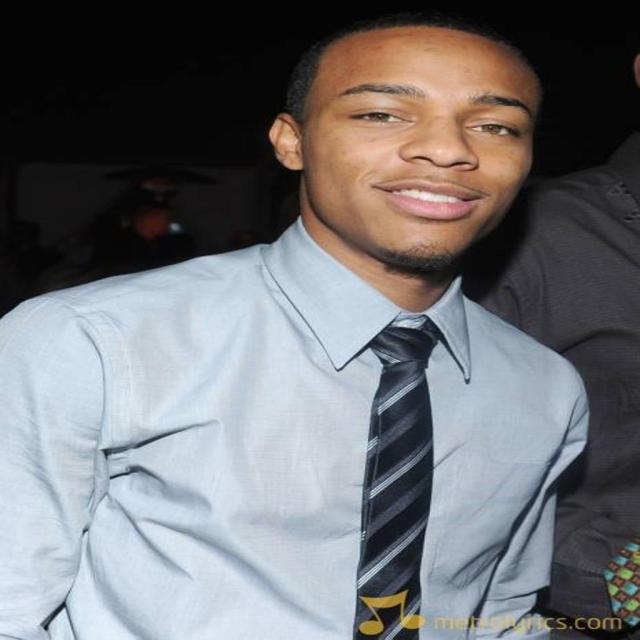Face: (308, 34, 532, 280)
